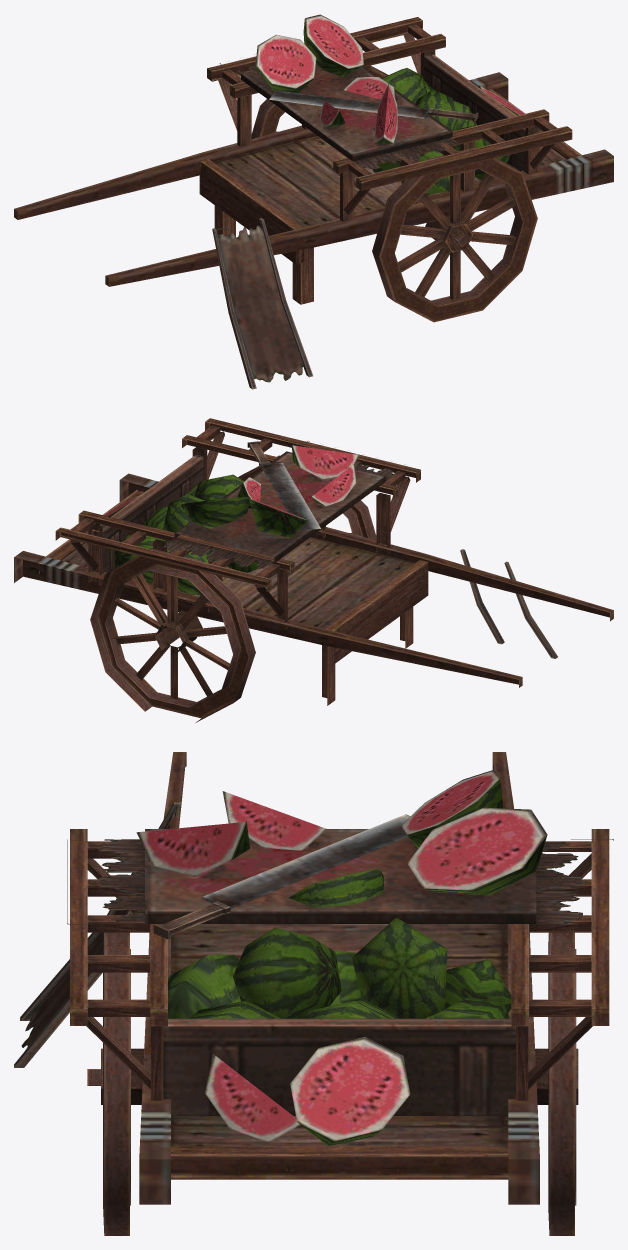
File: 1004_Item_xiguapu_1.FBX
3 renders of one model, top to bottom at view 1: azimuth 30°, elevation 25°; view 2: azimuth 150°, elevation 25°; view 3: azimuth 270°, elevation 25°, orthographic. The views are drawn at different scales.
Parts seen in each view (by area): view 1: 1004_Item_xiguapu_1; view 2: 1004_Item_xiguapu_1; view 3: 1004_Item_xiguapu_1.
Part boxes in pixels (box(x1,y1,x2,y2)): 1004_Item_xiguapu_1: box(14, 14, 613, 389); 1004_Item_xiguapu_1: box(14, 418, 613, 722); 1004_Item_xiguapu_1: box(14, 752, 613, 1235).
Size of the model in its own units: 326 by 195 by 136.
